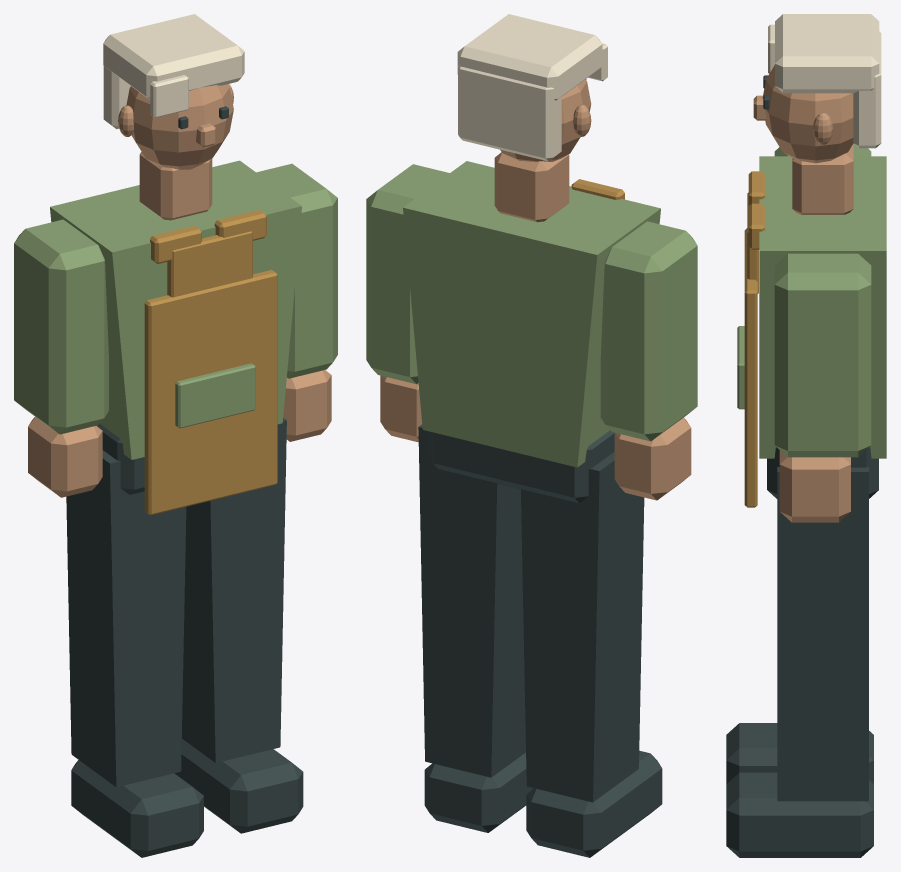
The model's file is master.glb.
3 views of the same model, side by side, from view 1: azimuth 30°, elevation 25°; view 2: azimuth 150°, elevation 25°; view 3: azimuth 270°, elevation 25° (orthographic). The views are drawn at different scales.
Parts seen in each view (by area): view 1: batch-right-leg-dark, batch-left-leg-dark, batch-master-root-ochre, batch-master-root-green, batch-right-arm-green, batch-master-root-cream, batch-master-root-skin, batch-left-arm-green, batch-right-arm-skin, batch-left-arm-skin, batch-master-root-dark; view 2: batch-master-root-green, batch-right-leg-dark, batch-left-leg-dark, batch-right-arm-green, batch-master-root-cream, batch-left-arm-green, batch-master-root-dark, batch-master-root-skin, batch-right-arm-skin, batch-left-arm-skin, batch-master-root-ochre; view 3: batch-left-leg-dark, batch-left-arm-green, batch-master-root-green, batch-master-root-cream, batch-master-root-skin, batch-master-root-ochre, batch-left-arm-skin, batch-right-leg-dark, batch-master-root-dark.
Boxes of the visible parts, x1,y1,x2,y2 form: batch-right-leg-dark: [66, 450, 203, 857]; batch-left-leg-dark: [174, 418, 303, 833]; batch-master-root-ochre: [144, 210, 277, 515]; batch-master-root-green: [50, 160, 301, 459]; batch-right-arm-green: [14, 219, 108, 434]; batch-master-root-cream: [103, 14, 244, 129]; batch-master-root-skin: [118, 84, 233, 220]; batch-left-arm-green: [256, 163, 337, 378]; batch-right-arm-skin: [28, 417, 102, 497]; batch-left-arm-skin: [283, 370, 331, 441]; batch-master-root-dark: [96, 106, 228, 494]; batch-master-root-green: [403, 161, 660, 467]; batch-right-leg-dark: [520, 452, 662, 857]; batch-left-leg-dark: [418, 424, 533, 832]; batch-right-arm-green: [600, 221, 697, 441]; batch-master-root-cream: [457, 14, 607, 161]; batch-left-arm-green: [366, 164, 449, 384]; batch-master-root-dark: [429, 79, 614, 503]; batch-master-root-skin: [494, 79, 591, 222]; batch-right-arm-skin: [614, 417, 691, 500]; batch-left-arm-skin: [380, 375, 422, 442]; batch-master-root-ochre: [571, 179, 624, 199]; batch-left-leg-dark: [726, 466, 873, 857]; batch-left-arm-green: [774, 253, 871, 457]; batch-master-root-green: [737, 156, 886, 458]; batch-master-root-cream: [768, 14, 881, 148]; batch-master-root-skin: [753, 65, 853, 214]; batch-master-root-ochre: [744, 171, 764, 507]; batch-left-arm-skin: [779, 450, 850, 522]; batch-right-leg-dark: [726, 723, 873, 783]; batch-master-root-dark: [763, 75, 878, 498].
Size of the model in its own units: 0.67 by 1.7 by 0.315.
